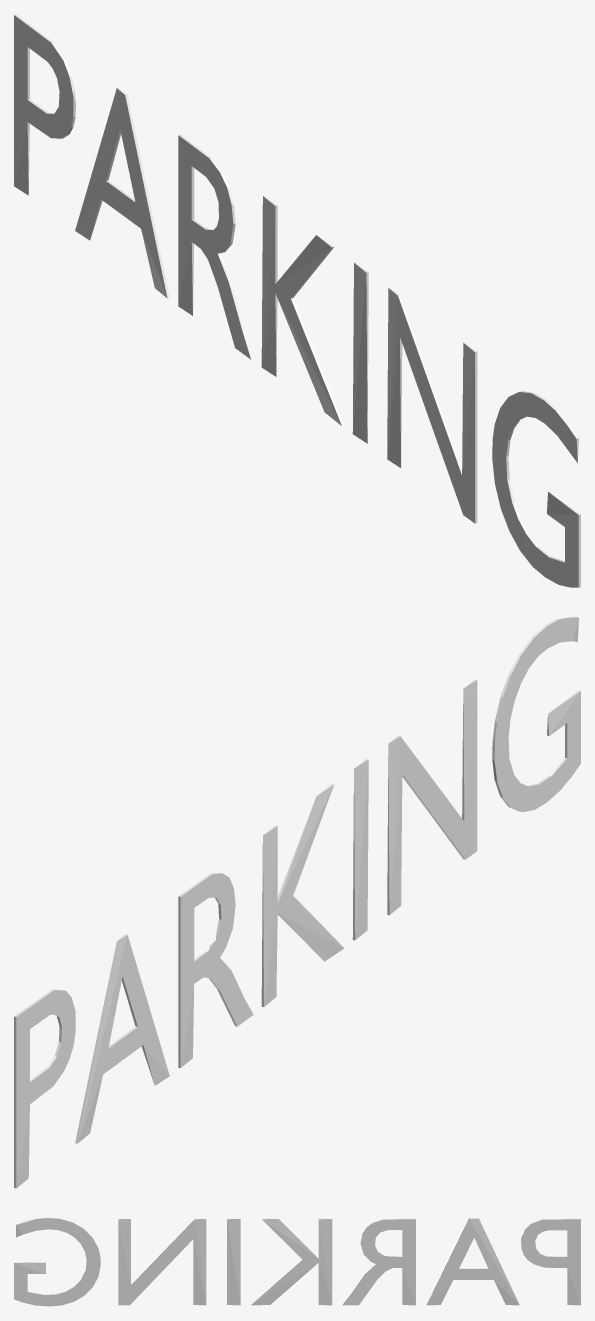
File: gate_text.fbx
3 views of the same model, one above another, from view 1: azimuth 30°, elevation 25°; view 2: azimuth 150°, elevation 25°; view 3: azimuth 270°, elevation 25° (orthographic). The views are drawn at different scales.
Parts seen in each view (by area): view 1: gate_text; view 2: gate_text; view 3: gate_text.
Part boxes in pixels (box(x1,y1,x2,y2)): gate_text: box(14, 14, 580, 587); gate_text: box(14, 616, 580, 1188); gate_text: box(14, 1217, 580, 1306).
Bounding box in the file's own units: 0.1021 × 7.15 × 41.55.
